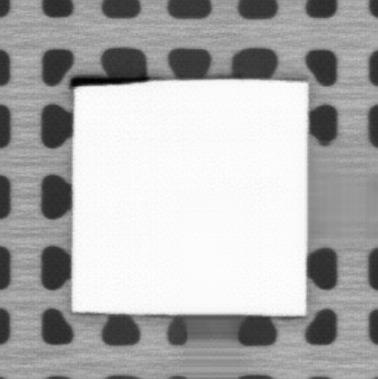DIE_BROKEN: (69, 73, 150, 88)
